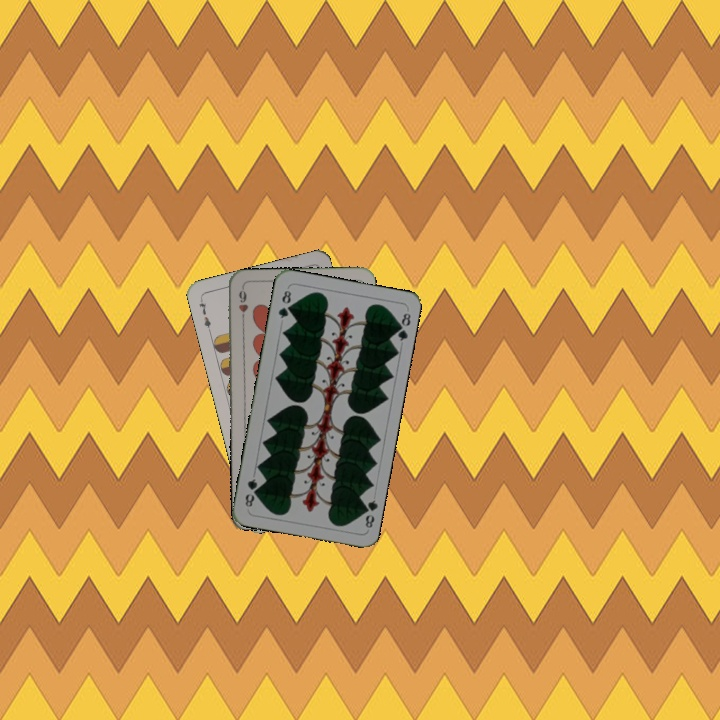E7: (195, 295, 213, 335)
G8: (357, 496, 380, 530), (274, 286, 294, 321)
H9: (234, 284, 250, 325)
